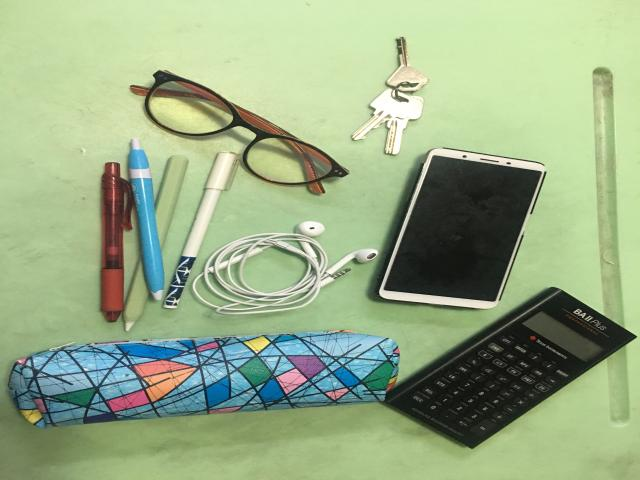Glasses: (130, 71, 348, 193)
Keys: (352, 38, 428, 155)
Mobile phone: (378, 148, 545, 308)
Pen: (163, 152, 238, 308), (128, 139, 163, 299), (100, 162, 133, 322)
wire: (192, 220, 378, 314)
